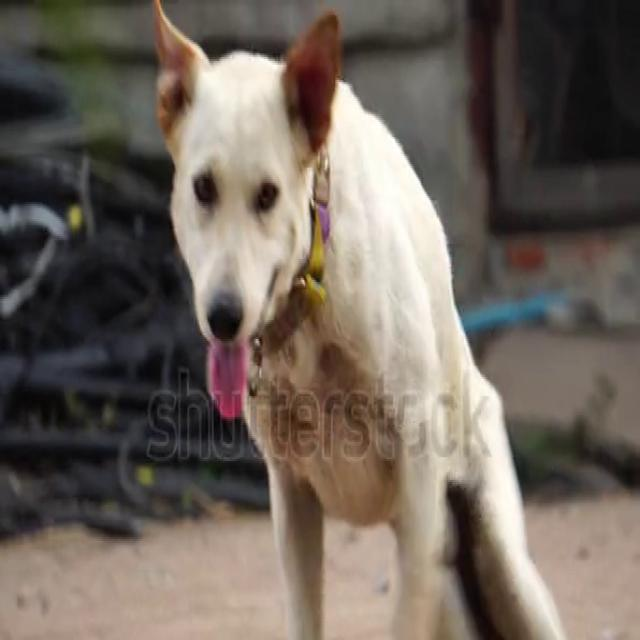normal_animals: (146, 2, 579, 638)
